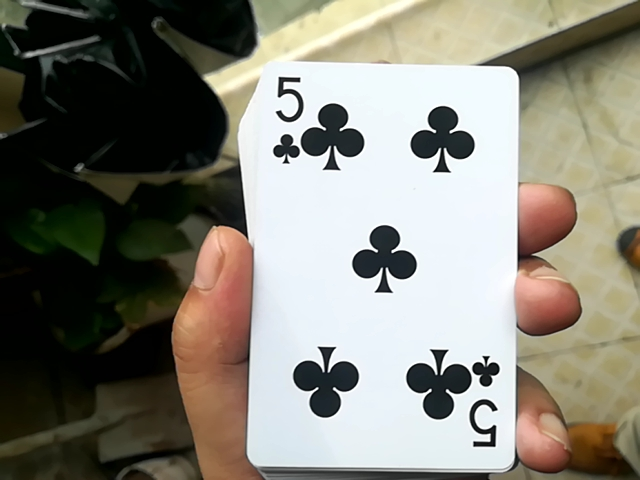mh 5: (227, 59, 520, 470)
